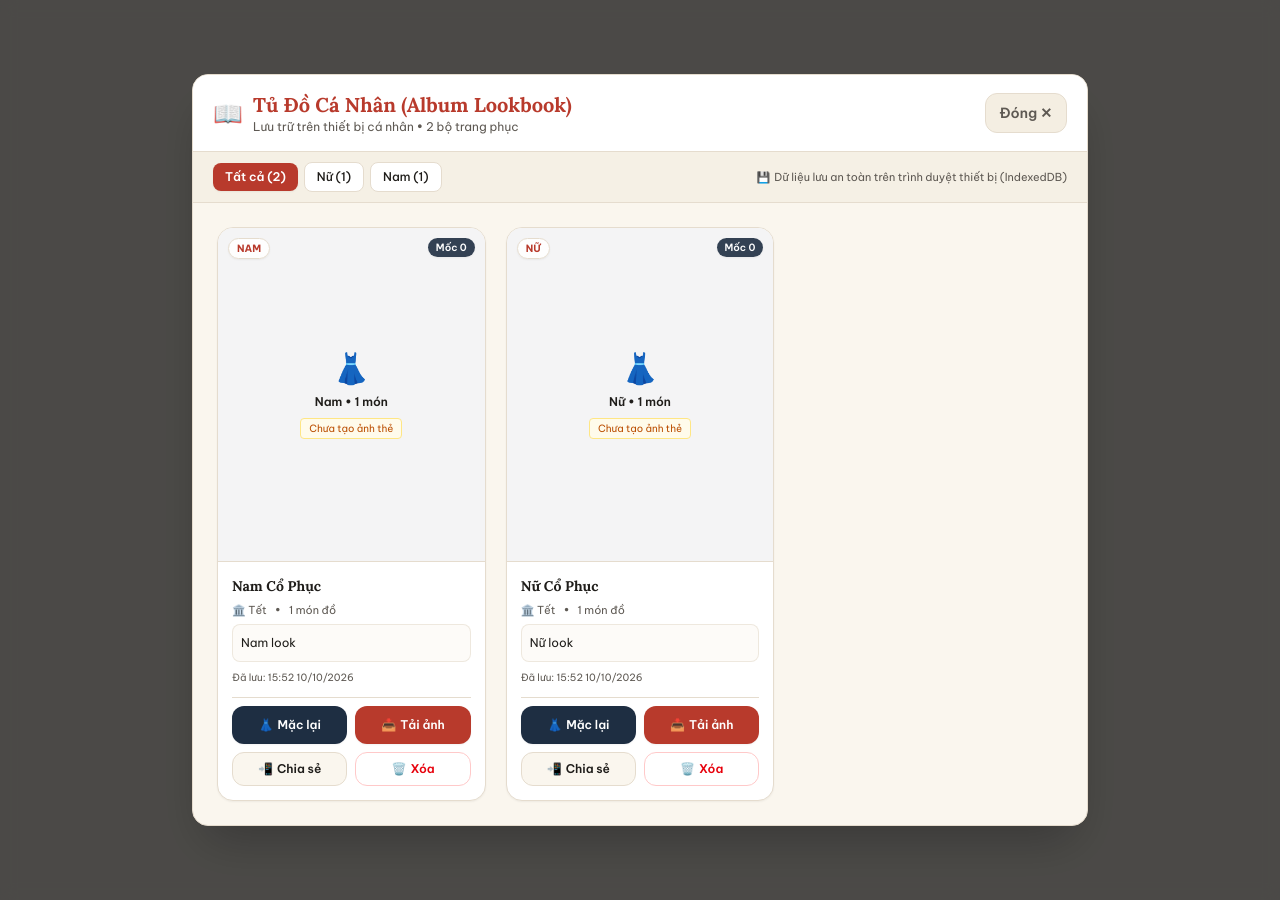
Test: LookbookModal Album component (app/components/LookbookModal.tsx) › filters outfits by gender tabs
Expected: the element with test id "lookbook-item-female_look" is shown, [506,227,774,801]
Expected: the element with test id "lookbook-item-male_look" is shown, [217,227,486,801]
// Click Nữ filter
Click the tab "Nữ (1)".
click(334, 177)  # box [304,162,364,192]
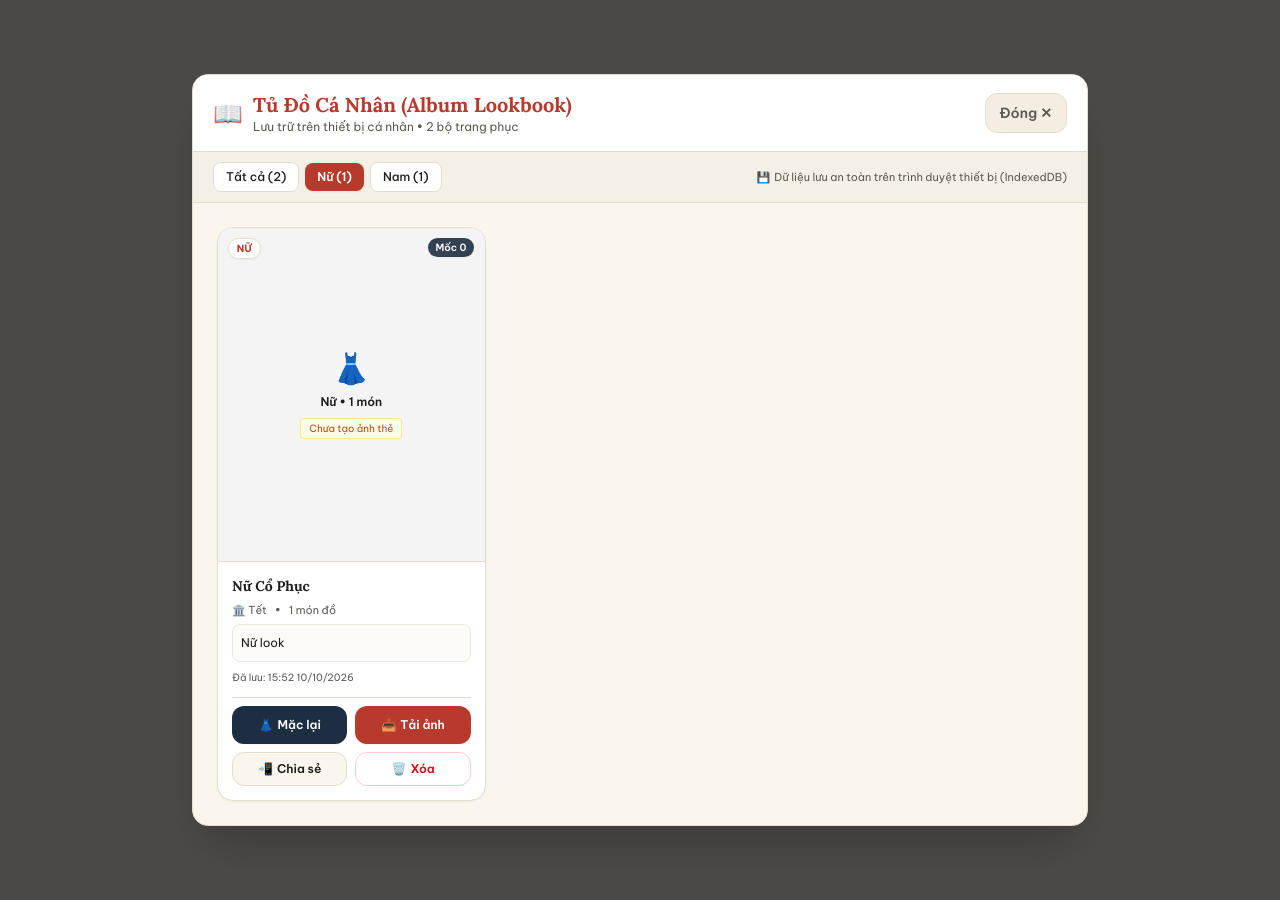
Expected: the element with test id "lookbook-item-female_look" is shown, [217,227,486,801]
Expected: the element with test id "lookbook-item-male_look" is gone
// Click Nam filter
Click the tab "Nam (1)".
click(406, 177)  # box [370,162,442,192]
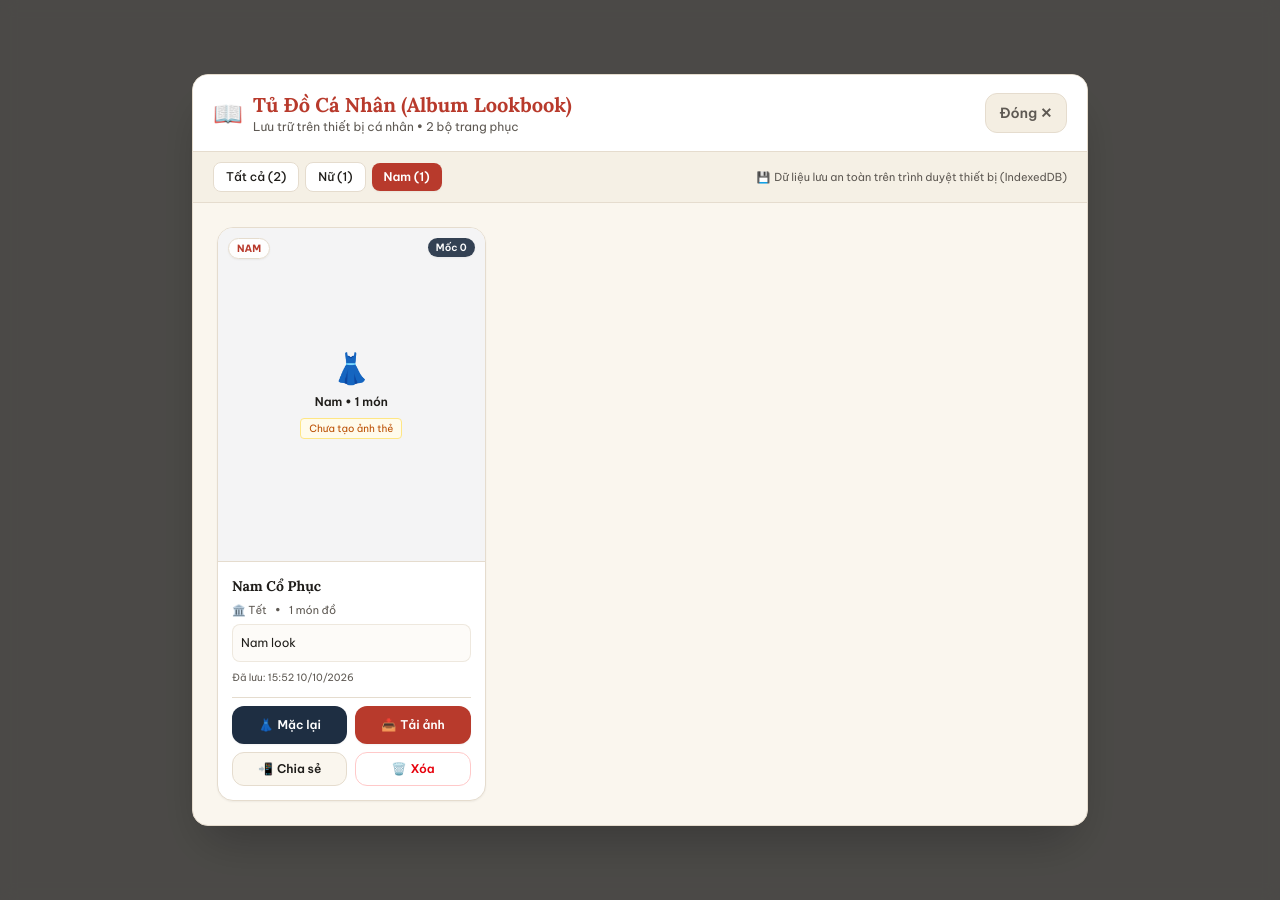
Expected: the element with test id "lookbook-item-female_look" is gone
Expected: the element with test id "lookbook-item-male_look" is shown, [217,227,486,801]
// Click Tất cả filter
Click the tab "Tất cả (2)".
click(256, 177)  # box [213,162,299,192]
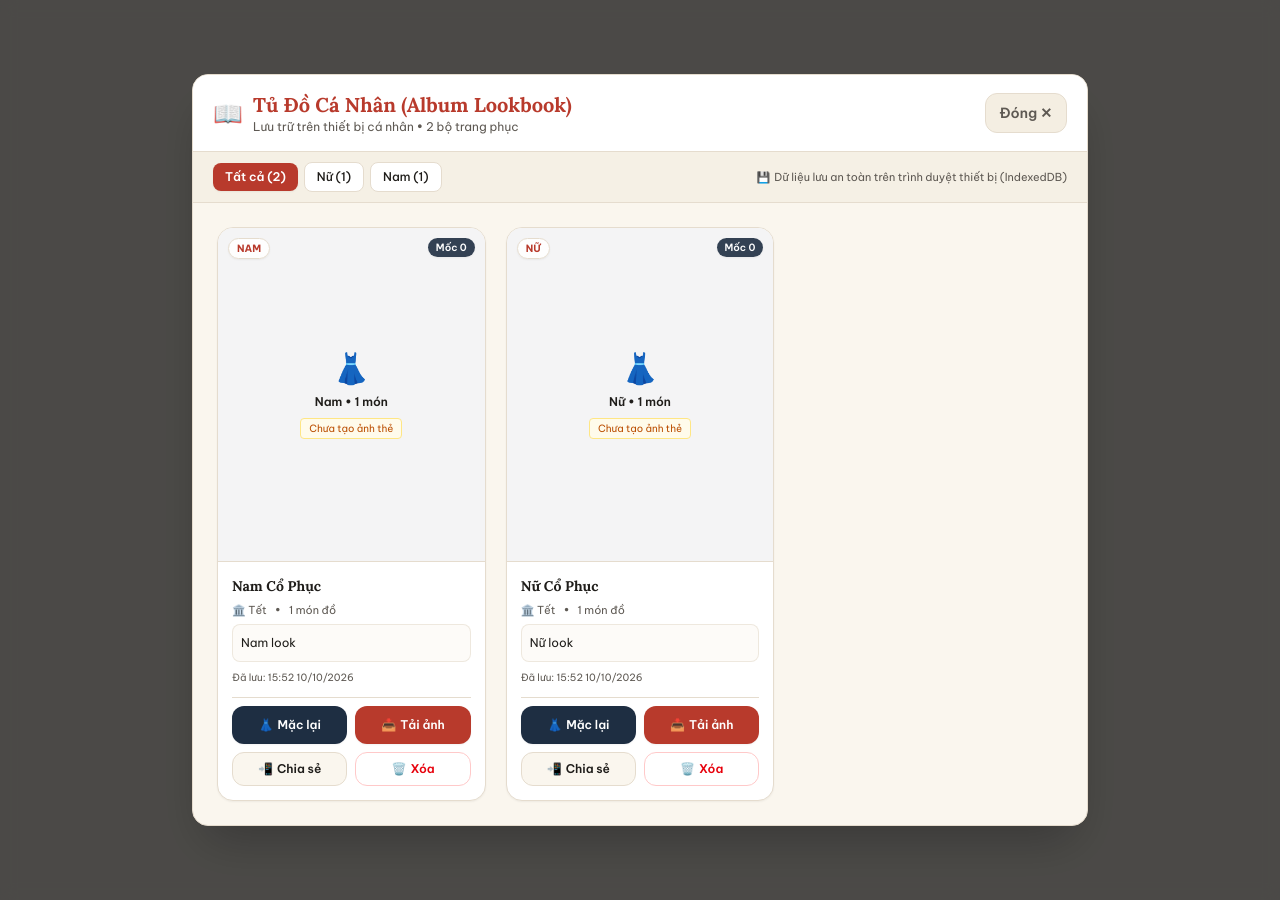
Expected: the element with test id "lookbook-item-male_look" is shown, [217,227,486,801]
Expected: the element with test id "lookbook-item-female_look" is shown, [506,227,774,801]
